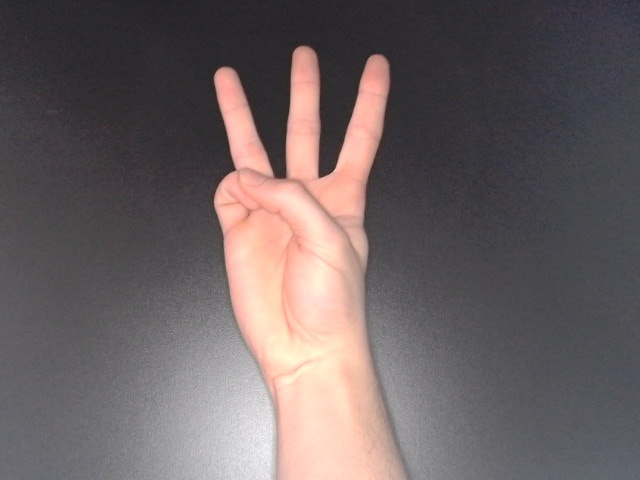w: (203, 42, 399, 413)
